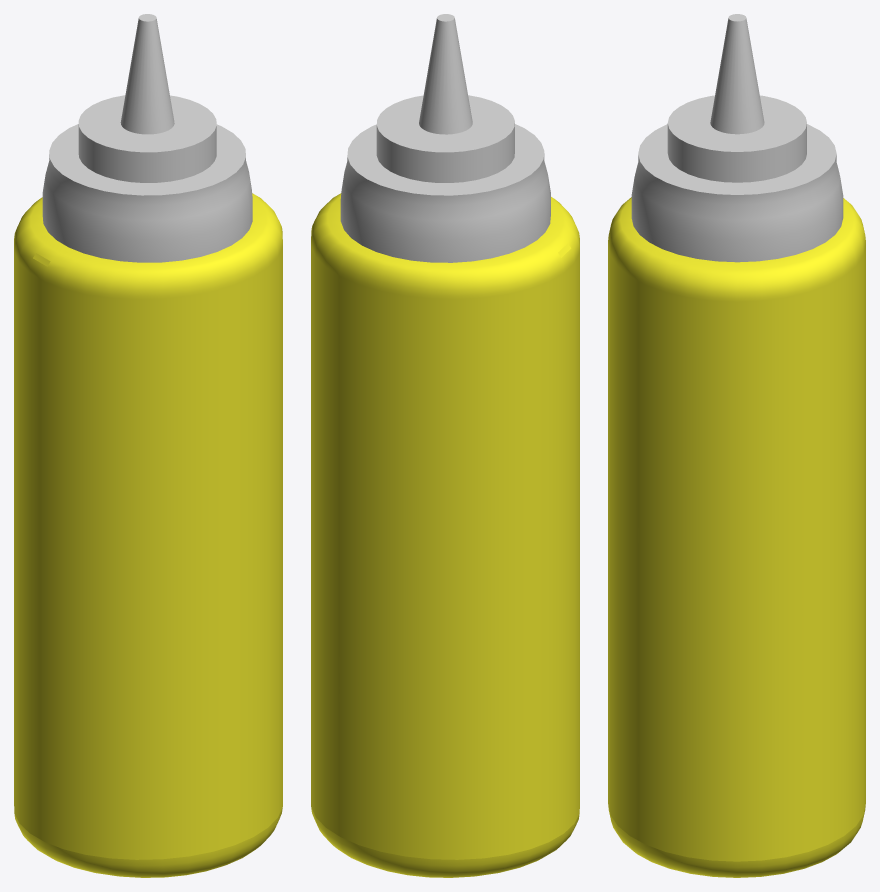
The model's file is mostaza.fbx.
The picture shows the model from 3 angles, left to right: view 1: azimuth 30°, elevation 25°; view 2: azimuth 150°, elevation 25°; view 3: azimuth 270°, elevation 25°; orthographic projection.
Parts seen in each view (by area): view 1: cuerpo, boca; view 2: cuerpo, boca; view 3: cuerpo, boca.
Part boxes in pixels (bbox=[...]): cuerpo: bbox=[14, 193, 282, 877]; boca: bbox=[42, 14, 252, 262]; cuerpo: bbox=[311, 193, 579, 877]; boca: bbox=[340, 14, 550, 262]; cuerpo: bbox=[608, 197, 865, 877]; boca: bbox=[631, 14, 843, 262].
Bounding box in the file's own units: 144 × 473 × 136.
